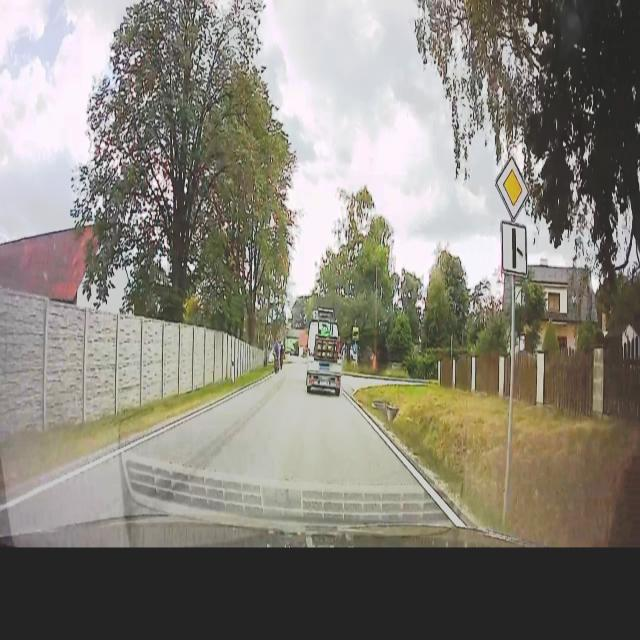Priority road: (492, 146, 532, 226)
